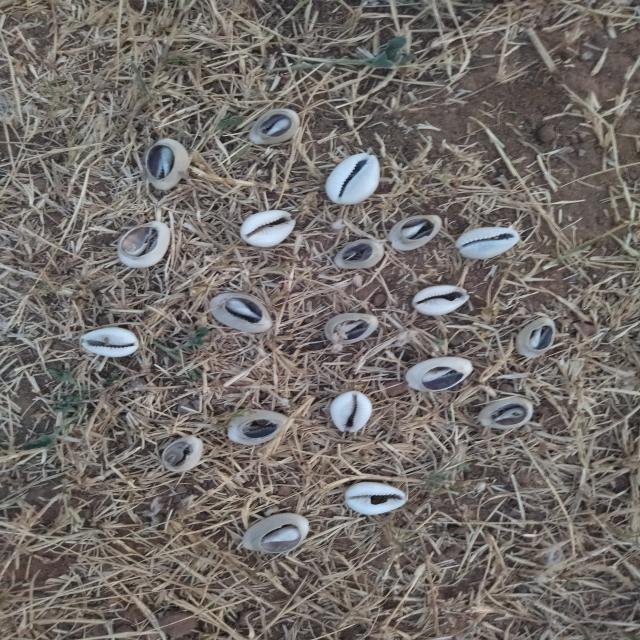facedown: (238, 509, 315, 556), (112, 214, 174, 272), (139, 133, 193, 195), (206, 290, 278, 334), (403, 356, 476, 394), (226, 406, 292, 448), (245, 106, 303, 149), (386, 211, 446, 251), (159, 430, 208, 474), (513, 316, 559, 361), (324, 310, 379, 346), (476, 398, 536, 430), (333, 237, 384, 272)
faceup: (321, 148, 386, 208), (238, 206, 297, 254), (239, 204, 298, 252), (343, 480, 411, 518), (77, 321, 143, 360), (454, 223, 521, 260), (410, 282, 470, 317), (329, 391, 374, 436)
